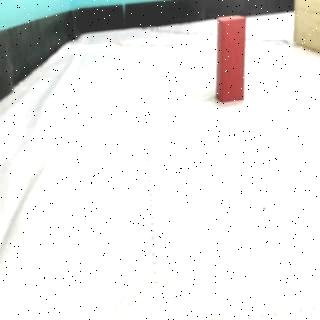redbox: (216, 14, 247, 102)
